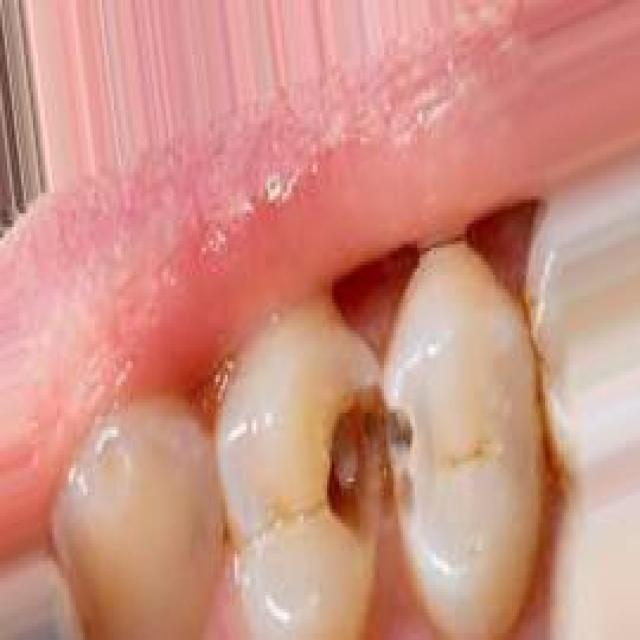caries: (276, 353, 472, 567)
